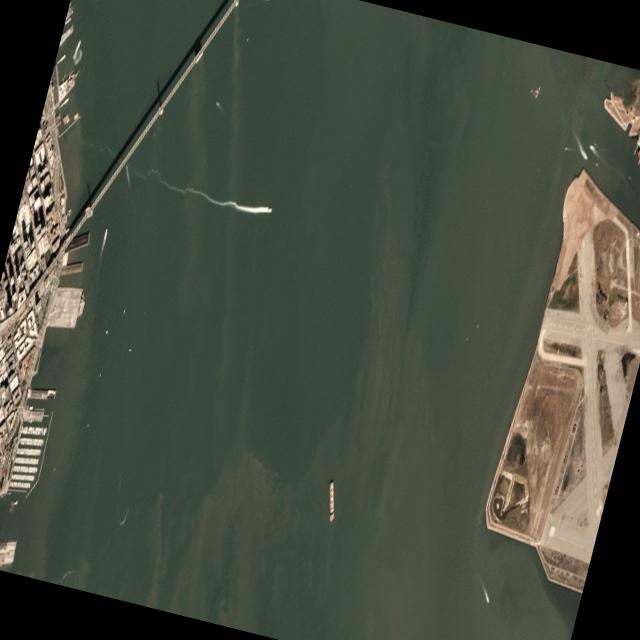ship: (318, 476, 344, 525)
